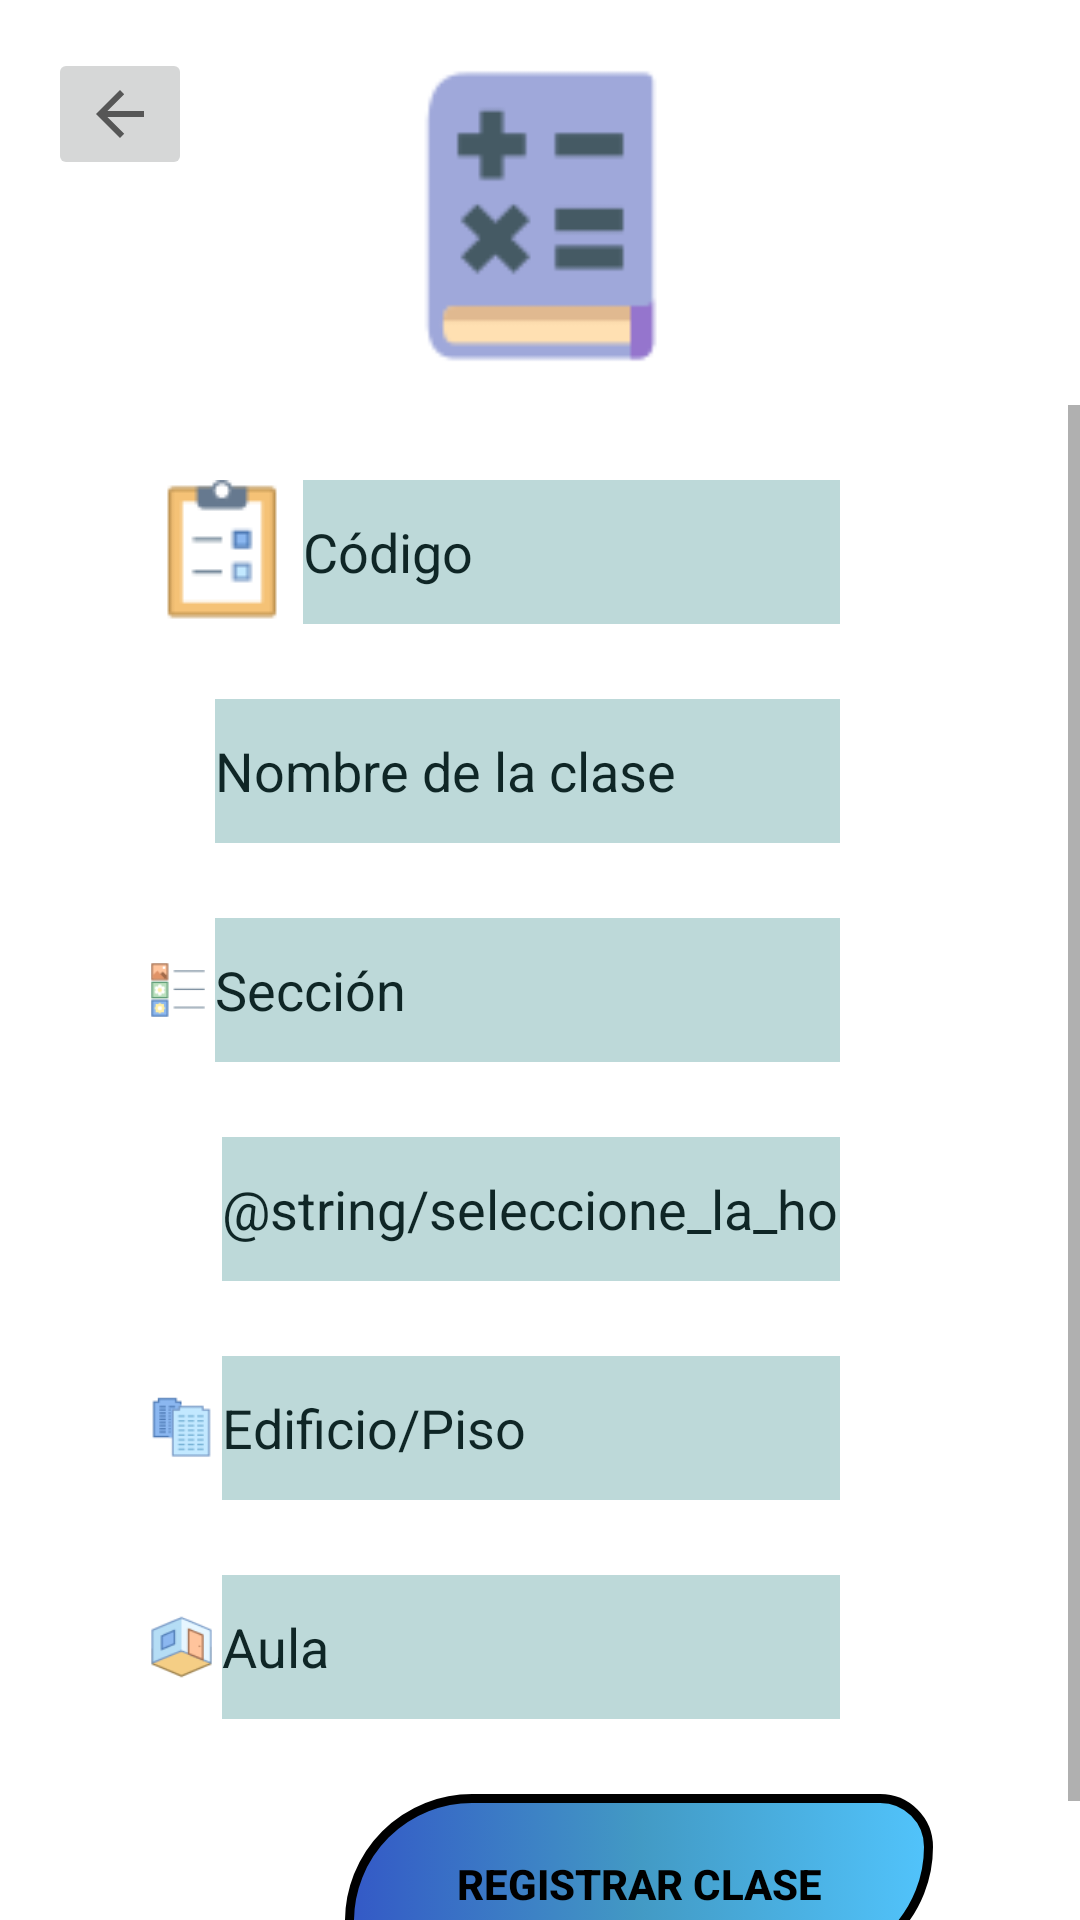

Point at icon controls on the screen. Image size 1080x1920, points as [x,y].
boton regresar/enviar lista: [120,114]
imagen clase: [541,216]
imagen codigo: [222,549]
imagen edificio: [181,1427]
imagen Seccion: [178,990]
